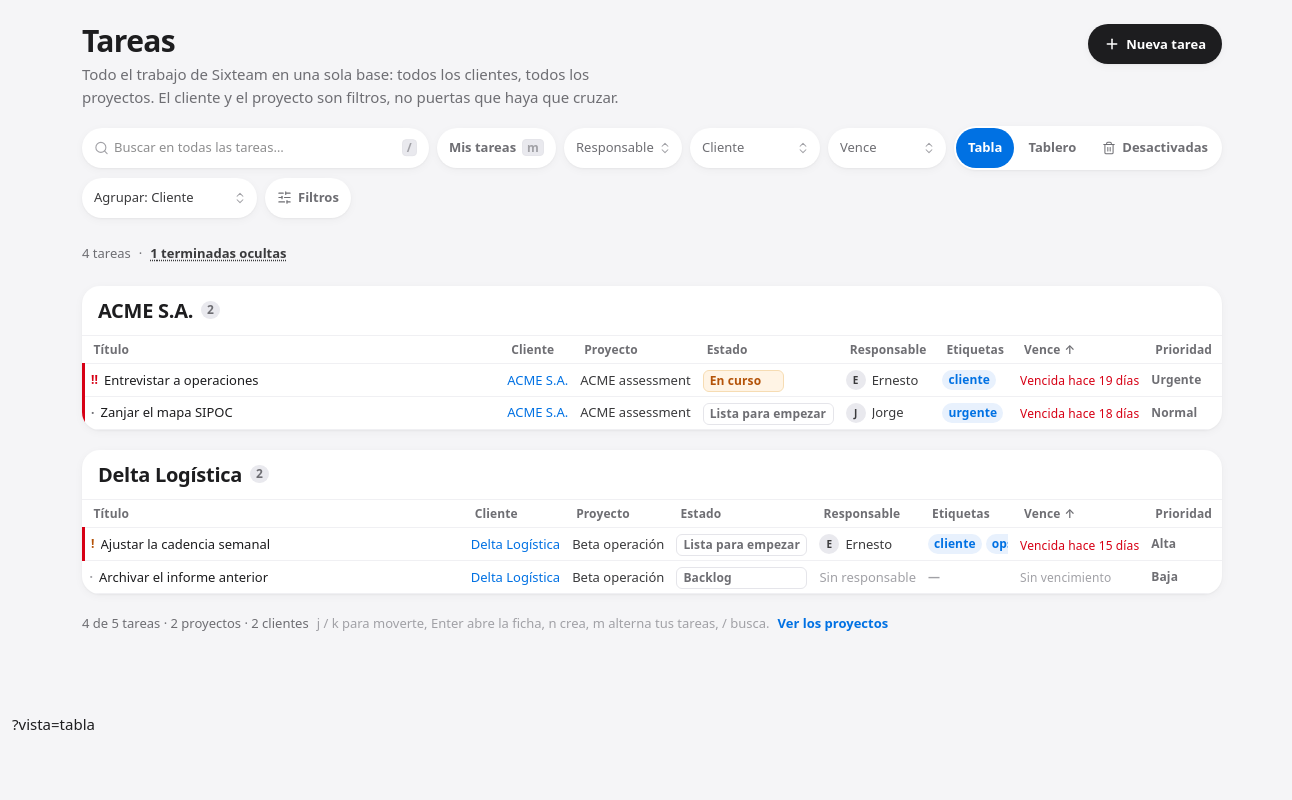
Test: TareasView (render) › cruza dos filtros y deja los chips visibles y borrables
The width and height of the screenshot is (1292, 800).
Check: the row with test id "tarea-fila-t-acme-hoy" is shown, box [84,396,1222,429]
Los selects viven en el panel plegable: hay que abrirlo primero.
Click the button with test id "tareas-filtros-toggle". click: (308, 198)
box: [265,178,351,218]
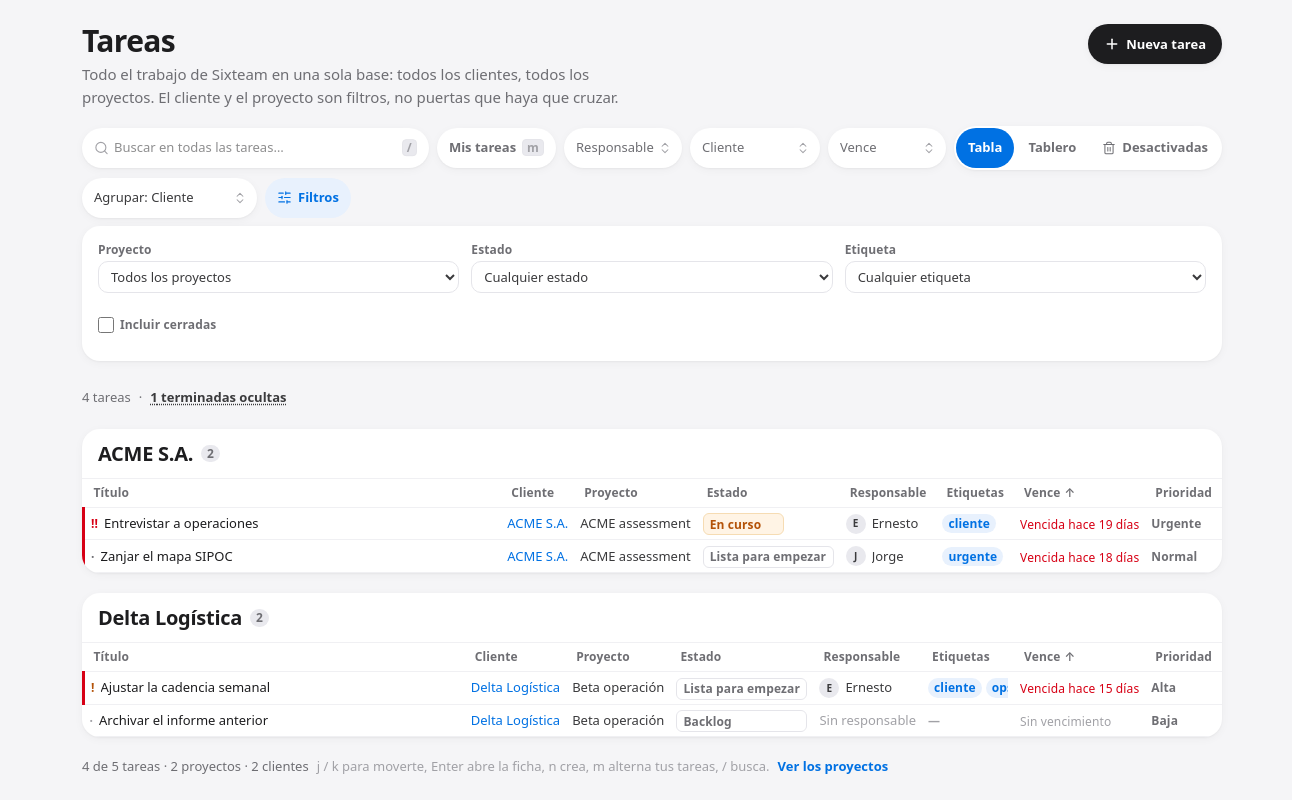
Select "ACME S.A." in the dropdown with test id "tareas-filtro-cliente". click: (755, 148)
box: [690,128,820,168]
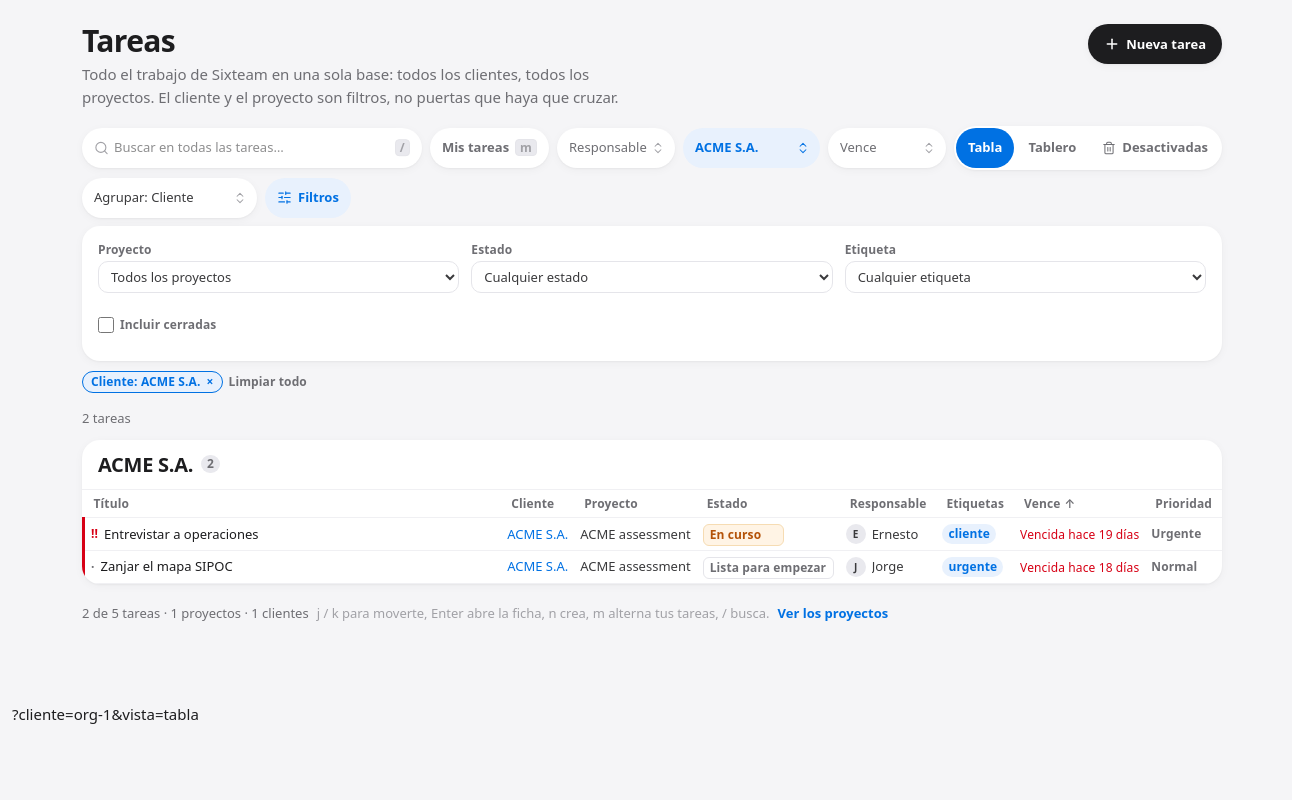
Select "Lista para empezar" in the dropdown with test id "tareas-filtro-estado". click: (652, 277)
box: [471,261,833,293]
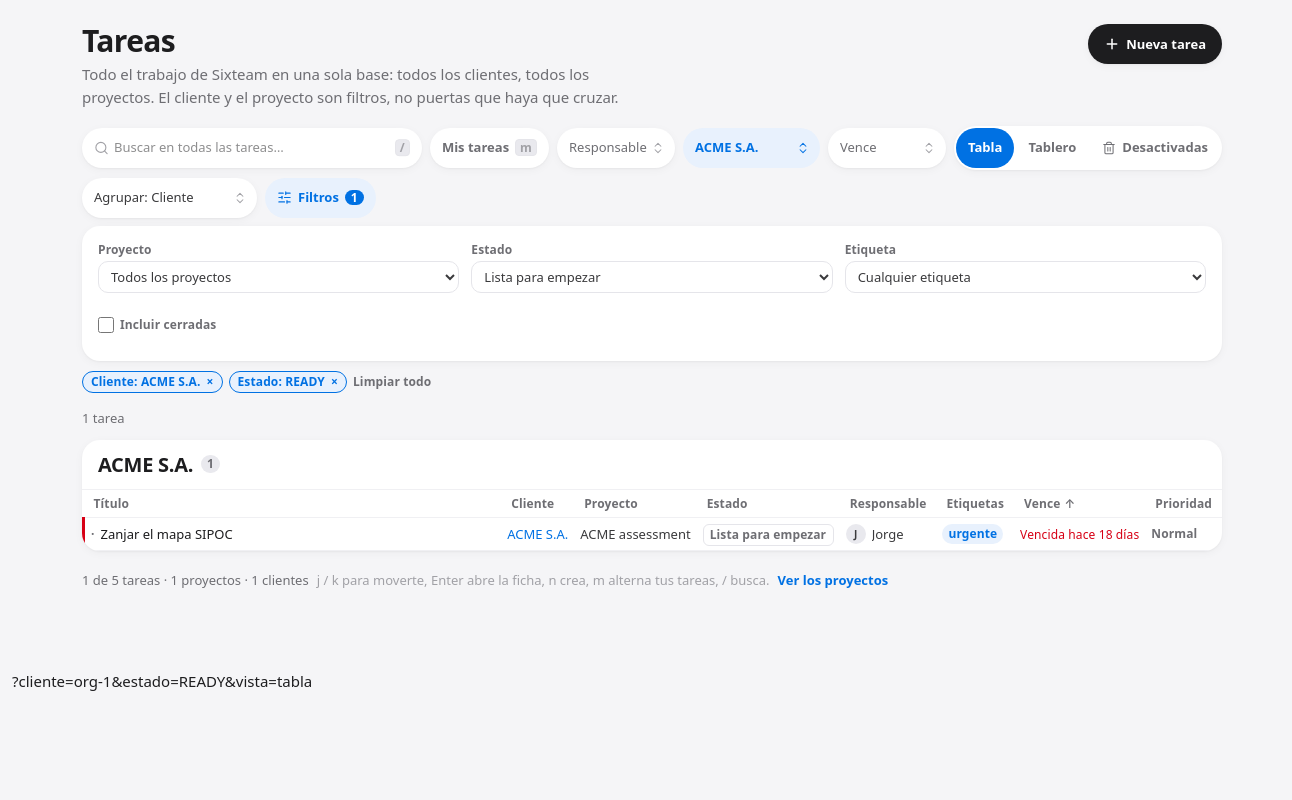
Check: the button with test id "tareas-chip-cliente" is shown, box [82,371,222,393]
Check: the row with test id "tarea-fila-t-acme-vencida" is gone
Check: the button with test id "tareas-chip-estado" is shown
Click the button with test id "tareas-chip-estado". click: (288, 382)
box: [228,371,347,393]
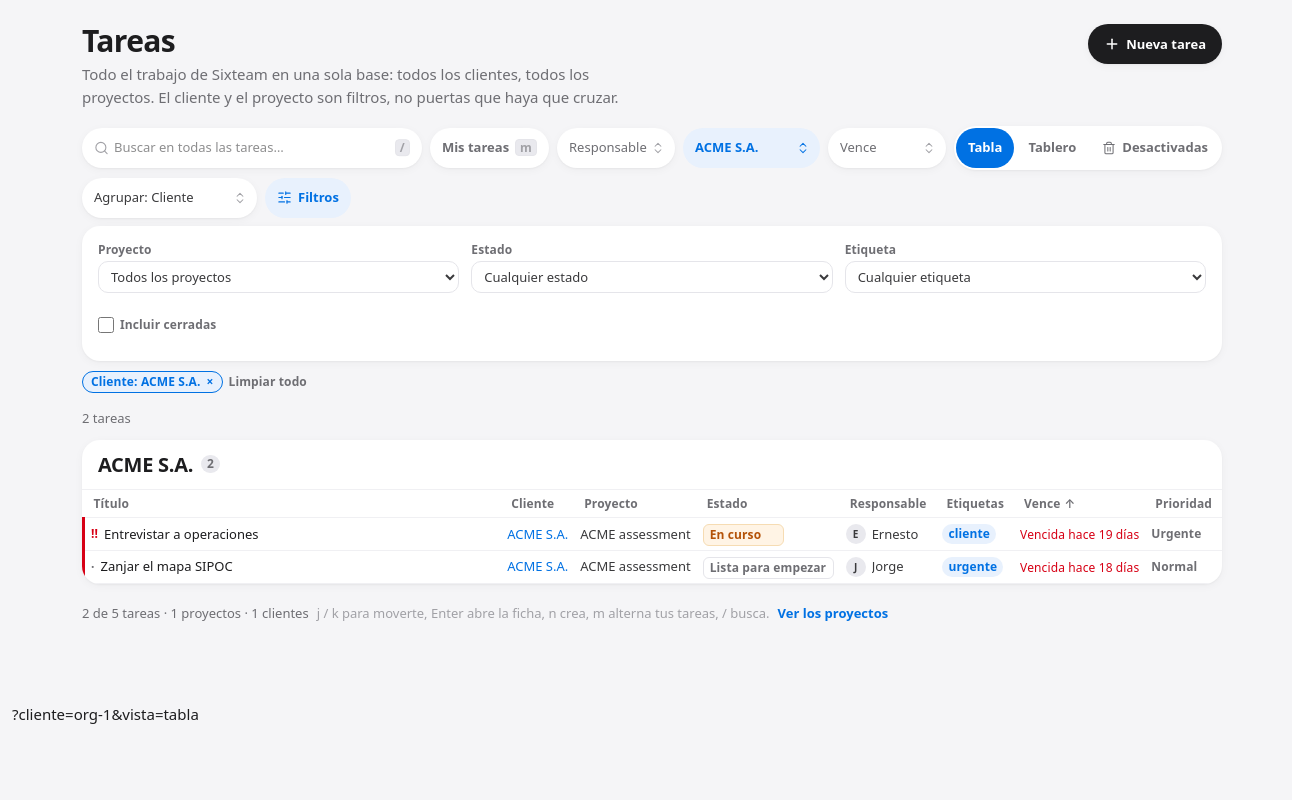
Check: the row with test id "tarea-fila-t-acme-vencida" is shown, box [84,518,1222,550]
Click the button with test id "tareas-limpiar". click: (268, 382)
box: [228,374,307,390]
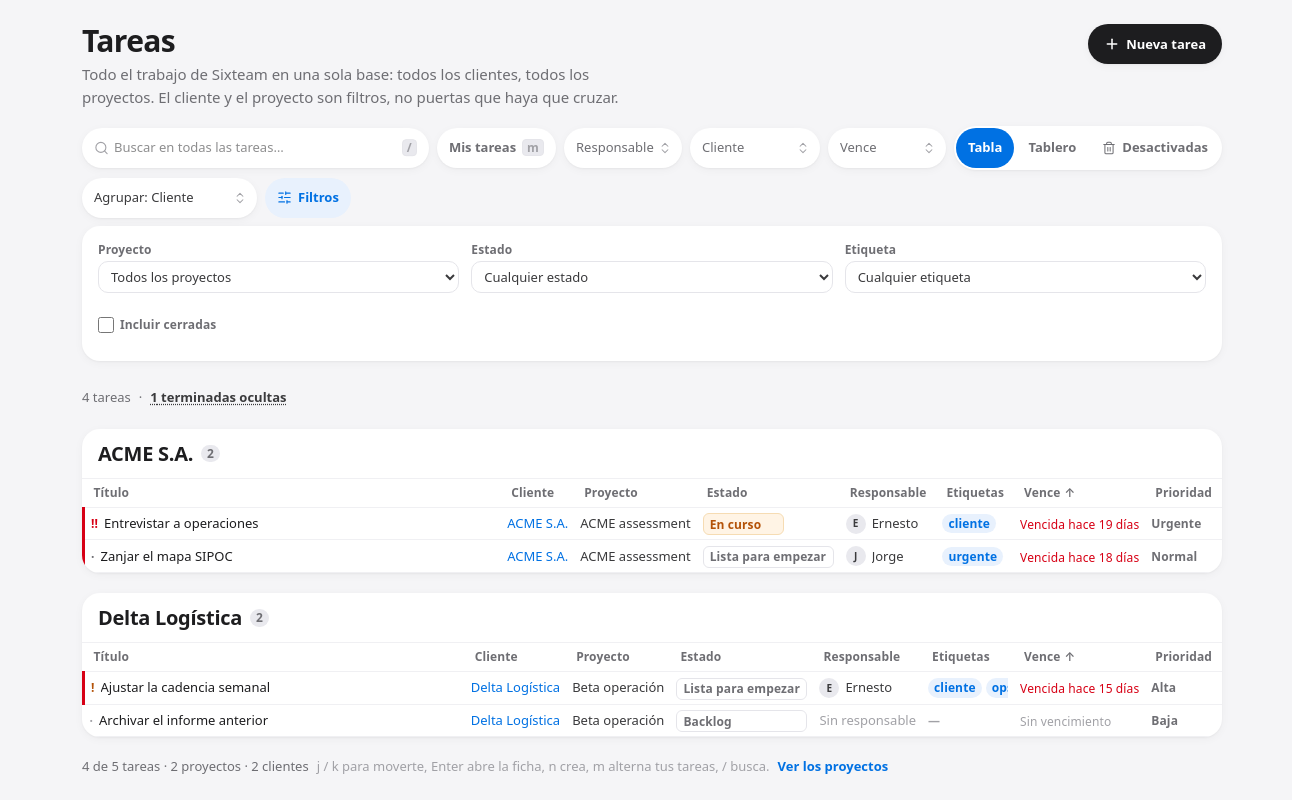
Check: the row with test id "tarea-fila-t-beta-semana" is shown, box [84,671,1222,704]
Check: the element with test id "tareas-chips" is gone
